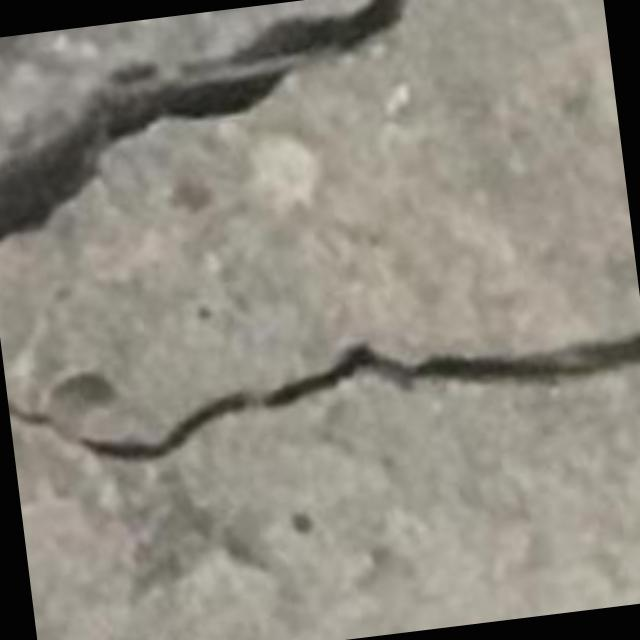crack: (77, 332, 639, 461)
